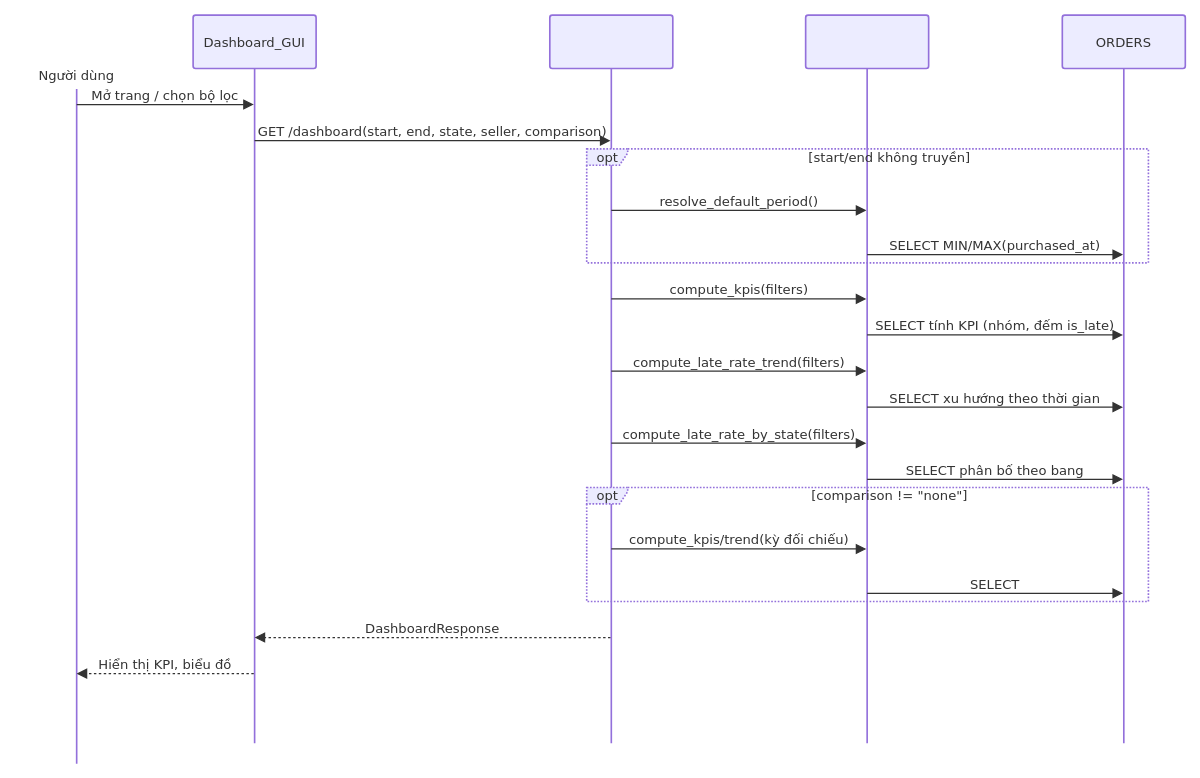
The diagram is 1200 pixels wide and 778 high, and some of its shapes have lost their labels. The shapes that lost their labels are listed below. From the top down, each one's box as (x1, y1, x2, y2) in pixels, then its label:
(549, 14, 673, 744): Dashboard_Router
(804, 14, 929, 744): Dashboard_Service
